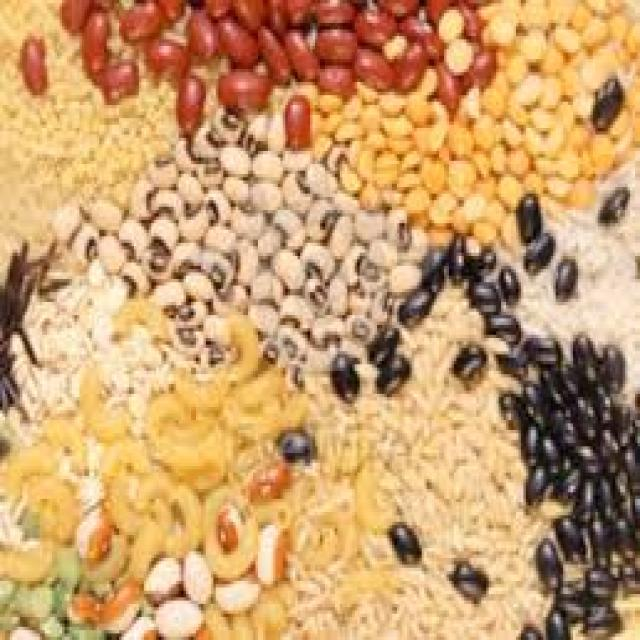organic waste: (5, 292, 310, 637), (64, 102, 427, 371), (298, 286, 556, 636), (307, 0, 637, 249), (491, 154, 638, 407), (0, 0, 176, 210), (498, 377, 638, 637), (0, 233, 67, 410), (0, 161, 55, 269), (75, 361, 126, 443), (32, 469, 80, 545), (109, 289, 166, 338), (94, 578, 144, 630), (164, 476, 198, 551), (216, 66, 268, 115), (0, 535, 55, 581), (139, 548, 183, 604), (253, 515, 288, 581), (253, 20, 288, 82), (223, 309, 256, 374), (15, 26, 49, 89), (5, 440, 55, 482), (389, 36, 426, 92), (181, 3, 213, 66), (208, 571, 258, 611), (154, 597, 203, 637), (42, 410, 84, 456), (590, 72, 622, 131), (80, 10, 110, 72), (218, 13, 253, 66), (193, 247, 230, 296), (174, 69, 204, 128), (282, 30, 312, 86), (92, 56, 134, 95), (337, 558, 382, 594), (449, 558, 486, 601), (181, 548, 211, 601), (117, 0, 161, 36), (75, 509, 112, 551), (144, 384, 186, 420), (384, 512, 416, 558), (372, 355, 407, 397), (313, 26, 357, 59), (394, 286, 439, 318), (598, 180, 628, 227), (462, 40, 492, 86), (454, 334, 484, 380), (171, 288, 211, 322), (568, 328, 595, 378), (248, 460, 290, 492), (149, 42, 188, 76), (280, 92, 305, 144), (429, 56, 454, 108), (318, 59, 354, 95), (492, 342, 528, 378), (416, 246, 446, 289), (70, 223, 100, 266), (526, 328, 558, 368), (166, 236, 201, 272), (146, 210, 181, 246), (352, 10, 390, 43), (136, 240, 168, 279), (330, 348, 355, 397), (595, 338, 618, 391), (149, 276, 186, 308), (354, 46, 384, 85), (312, 0, 357, 26), (521, 230, 551, 269), (516, 187, 538, 240), (481, 305, 516, 338), (181, 266, 213, 302), (94, 230, 119, 276), (213, 502, 241, 542), (116, 207, 142, 249), (116, 253, 144, 292), (491, 262, 521, 298), (367, 325, 397, 361), (278, 426, 310, 459), (60, 0, 94, 30), (551, 250, 573, 296), (258, 0, 288, 33), (169, 322, 203, 351), (434, 0, 459, 39), (469, 279, 501, 308), (117, 610, 151, 637), (377, 0, 417, 20), (282, 0, 312, 26), (233, 0, 263, 26), (466, 246, 494, 273), (449, 233, 466, 276), (397, 13, 432, 33), (444, 36, 466, 66), (461, 0, 476, 39), (424, 0, 449, 23), (203, 0, 230, 16)
